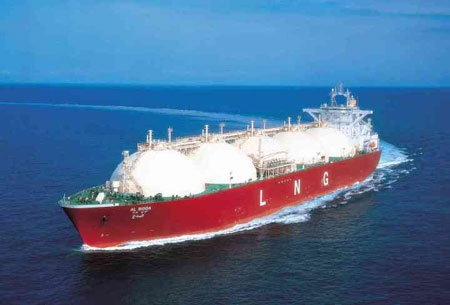Cargoship: (58, 84, 382, 250)
